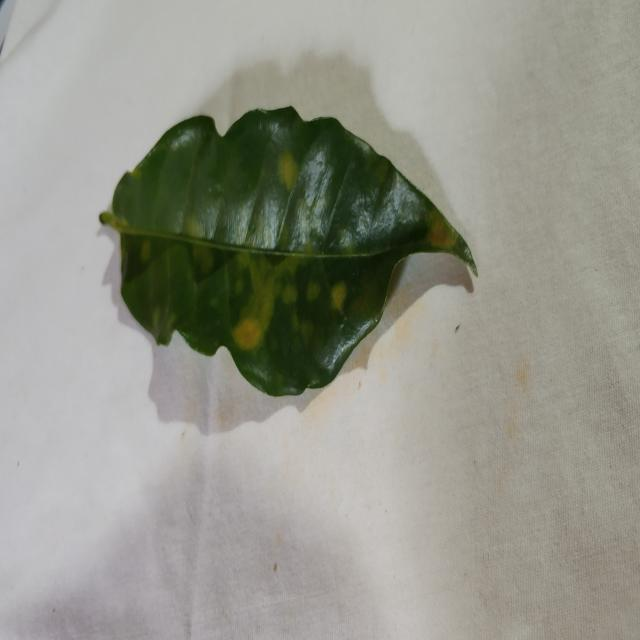Enfermedad-Roya: (97, 107, 477, 400)
